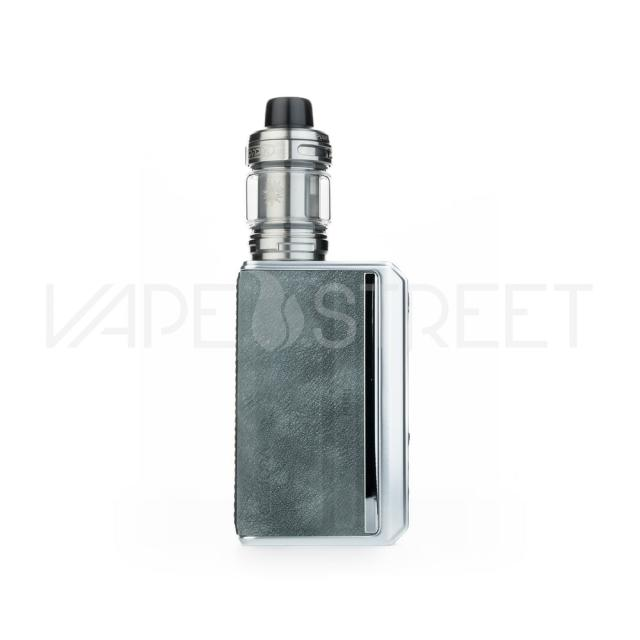Vapes: (232, 96, 410, 546)
